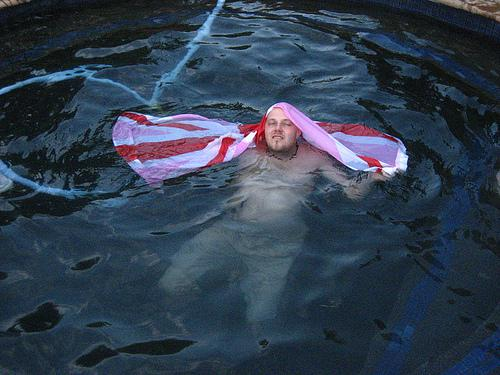human: (162, 104, 388, 335)
